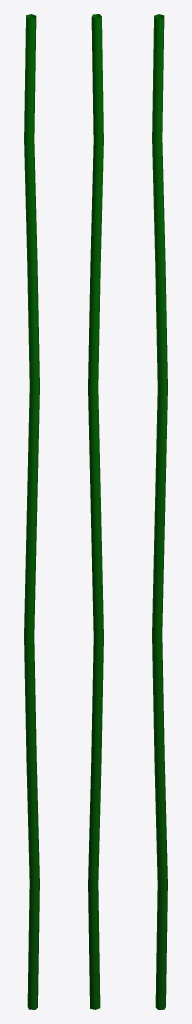
Rendered from hoist_rope.glb.
The picture shows the model from 3 angles, left to right: view 1: azimuth 30°, elevation 25°; view 2: azimuth 150°, elevation 25°; view 3: azimuth 330°, elevation 25°; orthographic projection.
Visible parts, largest first — view 1: hoist_rope; view 2: hoist_rope; view 3: hoist_rope.
Boxes of the visible parts, bbox=[...] form: hoist_rope: bbox=[24, 14, 39, 1009]; hoist_rope: bbox=[88, 14, 103, 1009]; hoist_rope: bbox=[152, 14, 167, 1009].
Size of what is drawn, in the model's own units: 0.062 by 4 by 0.0362.
